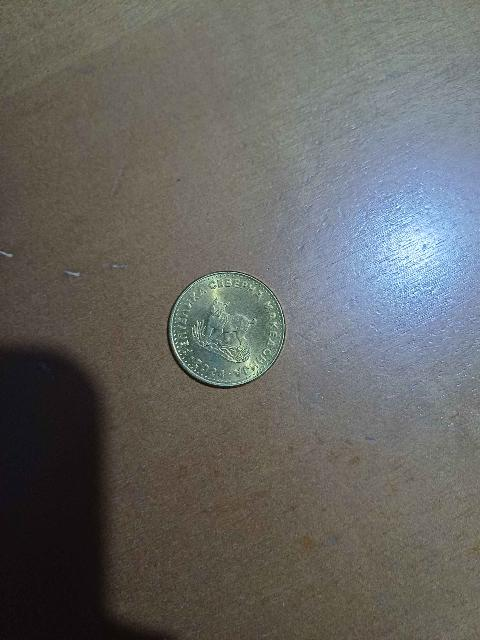5_coin: (165, 269, 284, 388)
